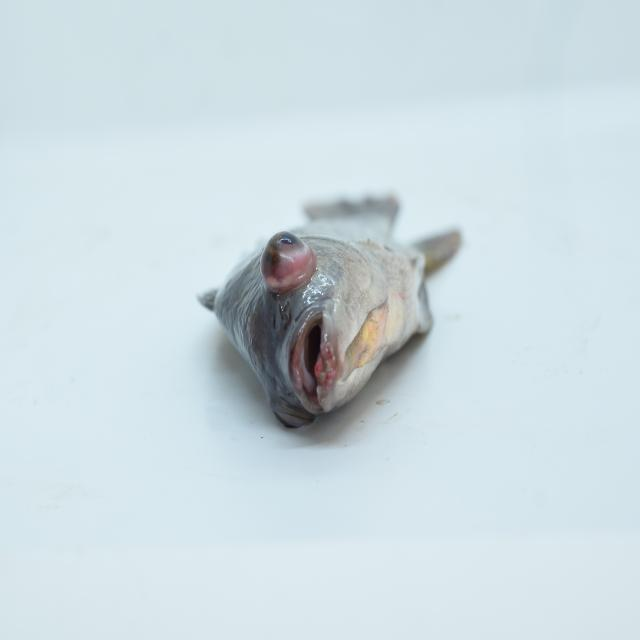Columnaris Disease: (176, 128, 492, 452)
